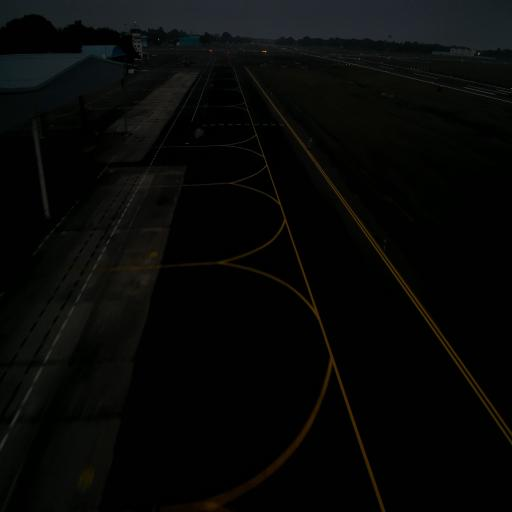on: (310, 136, 312, 142)
